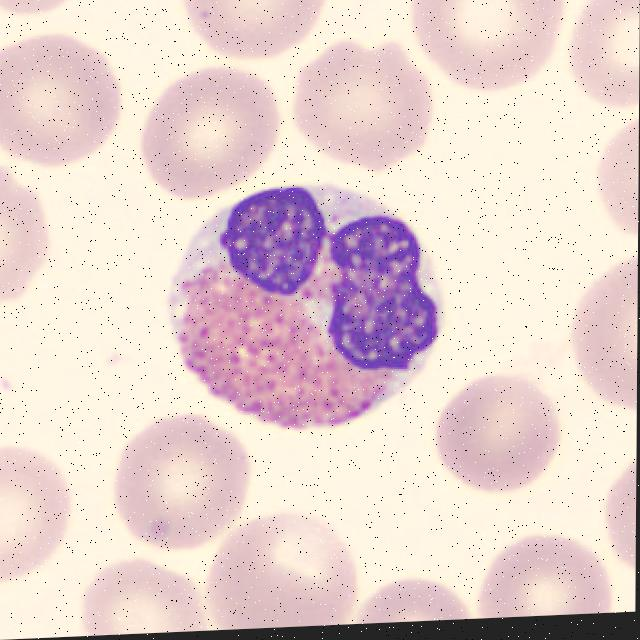eosinophil: (164, 173, 444, 444)
rbc: (288, 38, 442, 184), (132, 65, 282, 202), (101, 413, 248, 551), (202, 511, 361, 631), (0, 39, 132, 175), (432, 369, 562, 500), (408, 0, 561, 98), (556, 245, 638, 416), (474, 524, 614, 619), (0, 419, 74, 590), (63, 559, 222, 637), (170, 0, 335, 70), (0, 152, 65, 312), (564, 0, 640, 117), (359, 569, 475, 624), (590, 450, 636, 586), (595, 116, 639, 249), (0, 0, 119, 26)
